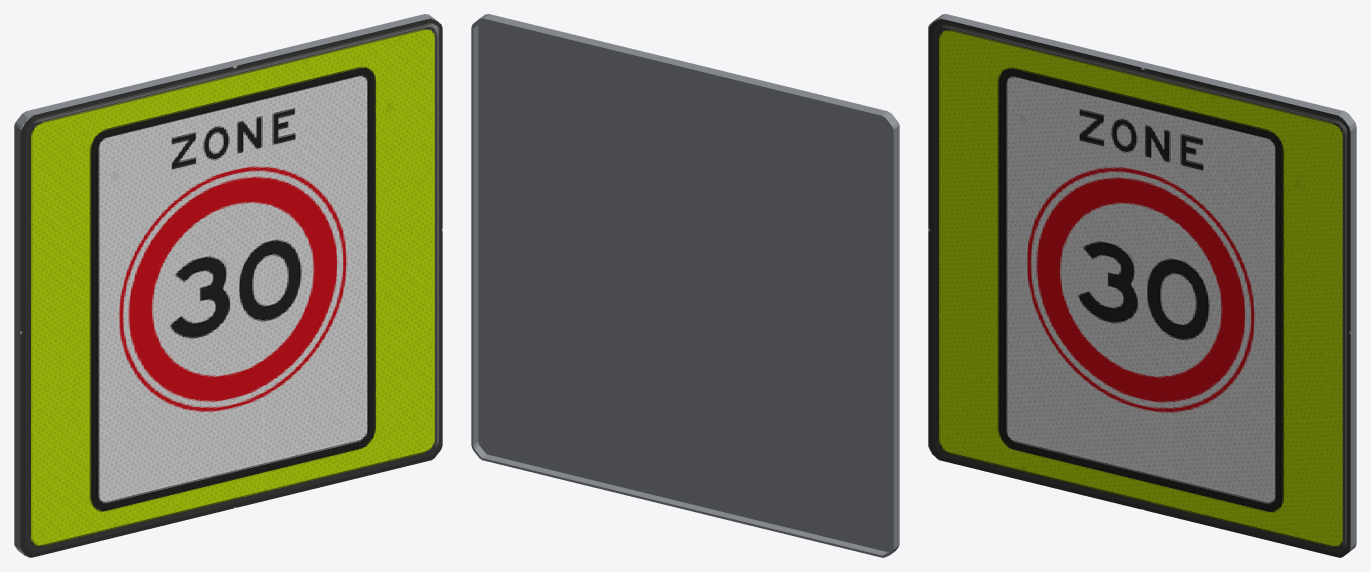
The picture shows the model from 3 angles, left to right: view 1: azimuth 30°, elevation 25°; view 2: azimuth 150°, elevation 25°; view 3: azimuth 330°, elevation 25°; orthographic projection.
Visible parts, largest first — view 1: cat_d5a5f0cf77909ba0; view 2: cat_d5a5f0cf77909ba0; view 3: cat_d5a5f0cf77909ba0.
Boxes of the visible parts, box(x1,y1,x2,y2) form: cat_d5a5f0cf77909ba0: box(14, 14, 442, 557); cat_d5a5f0cf77909ba0: box(471, 14, 899, 557); cat_d5a5f0cf77909ba0: box(928, 14, 1356, 557).
Bounding box in the file's own units: 0.6 × 0.015 × 0.6.
2 materials, 1 textured.
